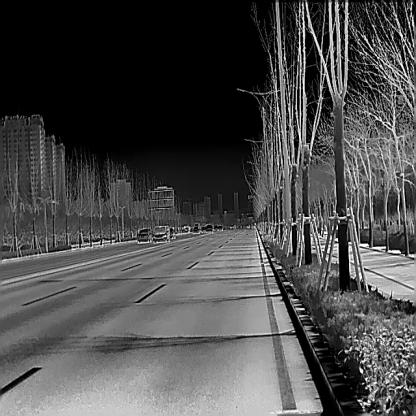car: (153, 225, 169, 242), (137, 228, 152, 242), (168, 227, 176, 239), (205, 224, 212, 232), (192, 226, 199, 233), (212, 224, 218, 231), (217, 224, 222, 231)
